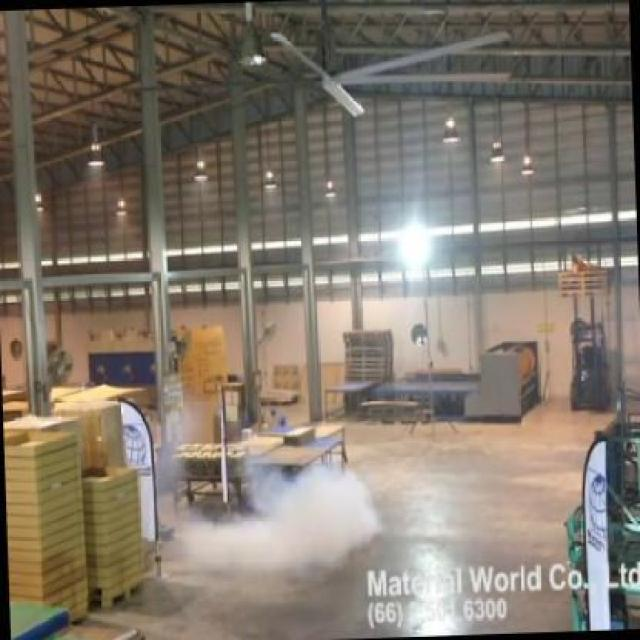fire: (199, 462, 390, 576)
